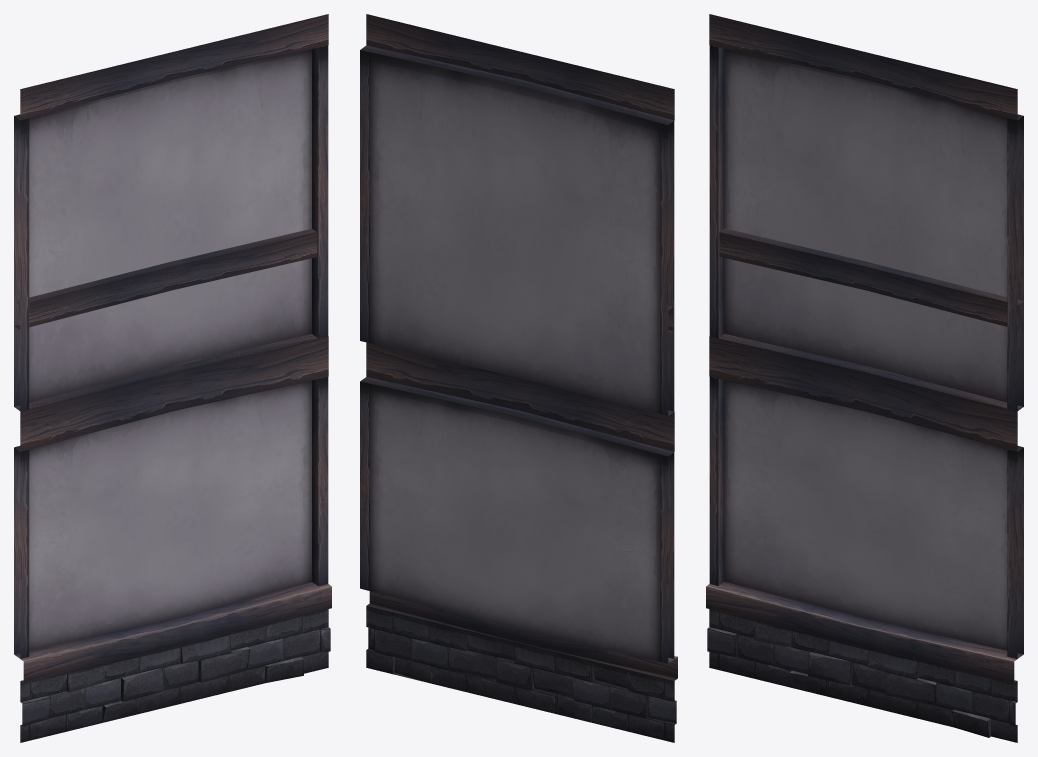
Rendered from Wall_1sided_detailed_2Floors.fbx.
3 views of the same model, side by side, from view 1: azimuth 30°, elevation 25°; view 2: azimuth 150°, elevation 25°; view 3: azimuth 330°, elevation 25° (orthographic).
Visible parts, largest first — view 1: Wall_1sided_detailed_2Floors; view 2: Wall_1sided_detailed_2Floors; view 3: Wall_1sided_detailed_2Floors.
Part boxes in pixels (x1,y1,x2,y2): Wall_1sided_detailed_2Floors: [14, 14, 331, 742]; Wall_1sided_detailed_2Floors: [360, 14, 677, 742]; Wall_1sided_detailed_2Floors: [706, 14, 1023, 742].
Bounding box in the file's own units: 0.6266 × 1.27 × 0.0339.
